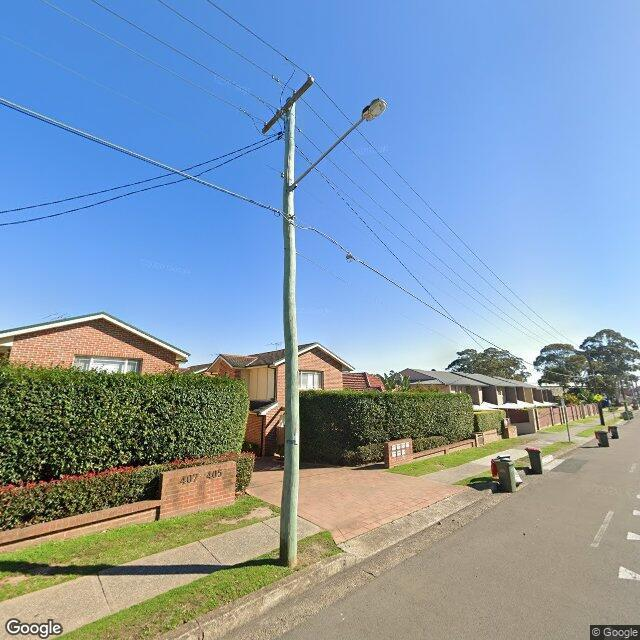crossarm: (260, 77, 316, 135)
streetlight: (289, 98, 388, 193)
timber-pole: (277, 95, 300, 566)
